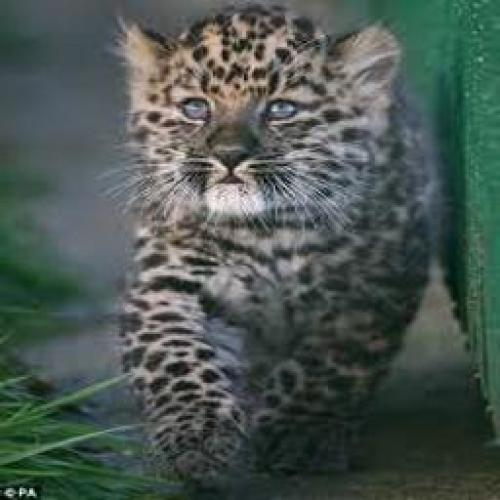amur_leopard-endangered: (119, 7, 440, 500)
